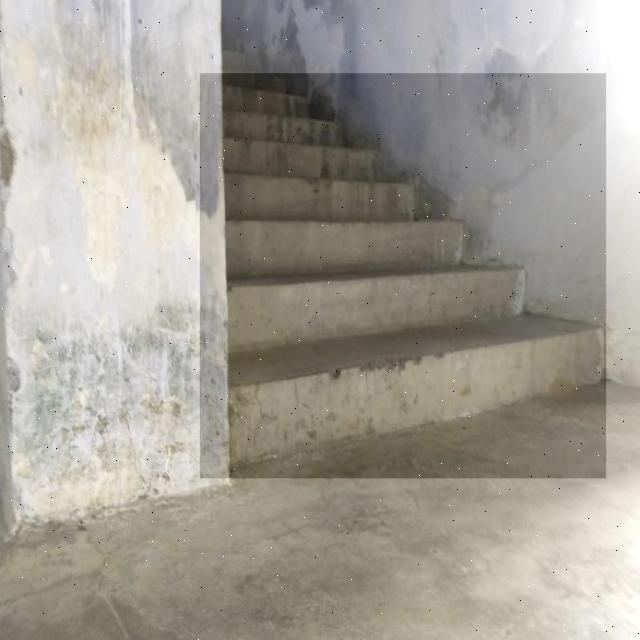stair: (200, 73, 606, 478)
